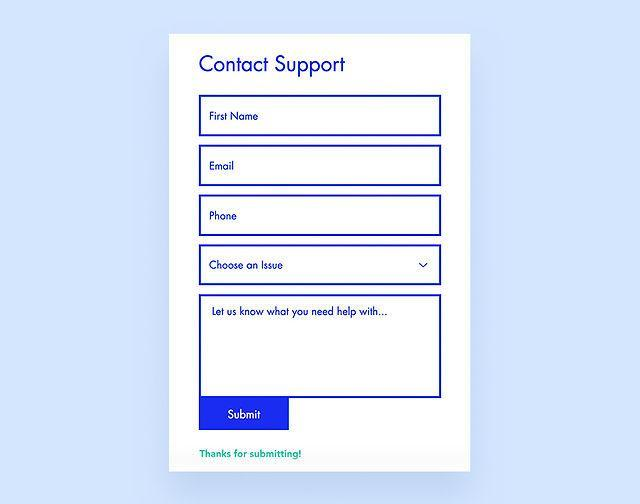button: (200, 399, 291, 431)
dropdown: (201, 245, 441, 287)
input: (199, 194, 442, 237), (200, 146, 442, 187), (201, 97, 442, 138)
label: (187, 48, 356, 79)
